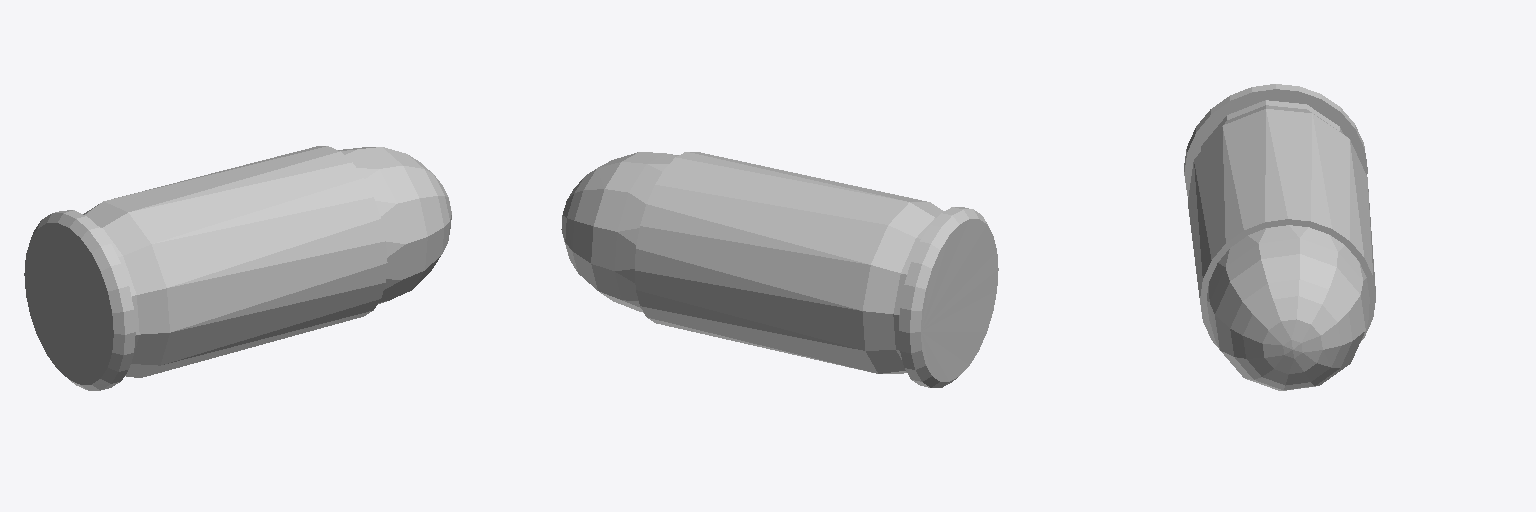
The model's file is Ammo.obj.
3 renders of one model, left to right at view 1: azimuth 30°, elevation 25°; view 2: azimuth 150°, elevation 25°; view 3: azimuth 270°, elevation 25°, orthographic.
Visible parts, largest first — view 1: Ammo_LP_Cylinder:028_Cylinder:027.002; view 2: Ammo_LP_Cylinder:028_Cylinder:027.002; view 3: Ammo_LP_Cylinder:028_Cylinder:027.002.
Boxes of the visible parts, box(x1,y1,x2,y2) form: Ammo_LP_Cylinder:028_Cylinder:027.002: box(24, 146, 451, 390); Ammo_LP_Cylinder:028_Cylinder:027.002: box(561, 152, 998, 387); Ammo_LP_Cylinder:028_Cylinder:027.002: box(1184, 84, 1375, 390).
Size of the model in its own units: 0.0239 by 0.0099 by 0.0104.